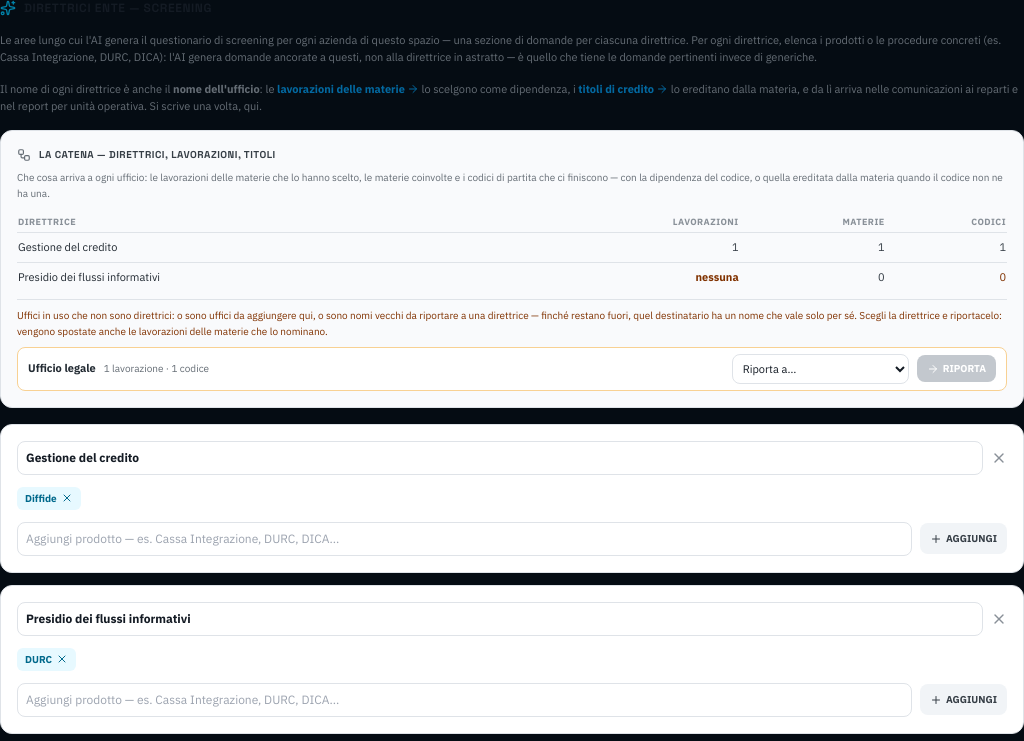
Test: direttrici: la catena fino ai titoli › mostra il rifiuto dell’azione senza togliere l’ufficio dall’elenco
Expected: the text "Ufficio legale" is shown, x1=28 y1=360 x2=96 y2=377
Select "Presidio dei flussi informativi" in the dropdown named "Direttrice a cui riportare Ufficio legale" at (820, 368), box x1=732 y1=354 x2=909 y2=384
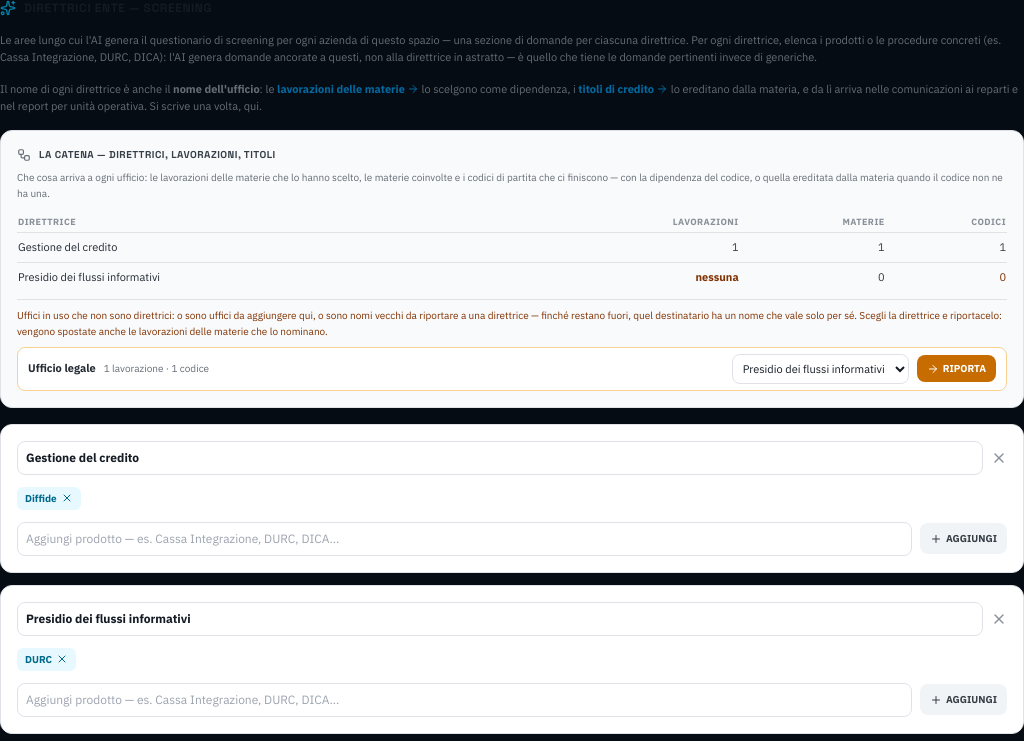
Click the button "Riporta" at (956, 368), box x1=917 y1=355 x2=996 y2=382
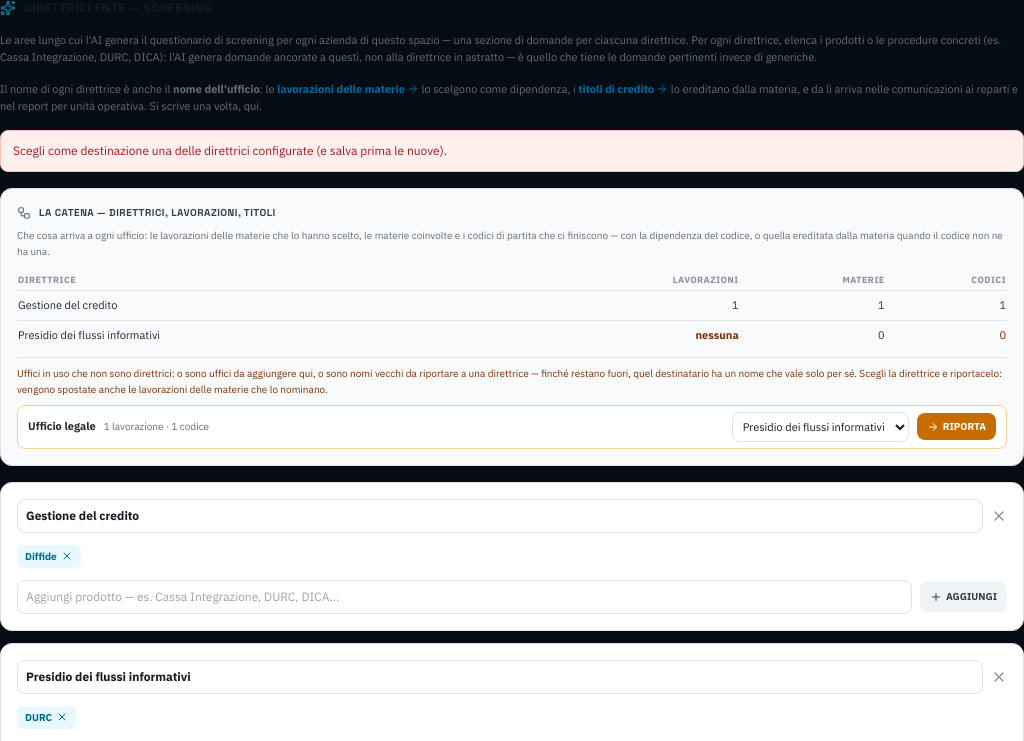
Expected: the text "Ufficio legale" is shown, x1=28 y1=418 x2=96 y2=435
Expected: the text "salva prima le nuove" is shown, x1=13 y1=143 x2=447 y2=158
